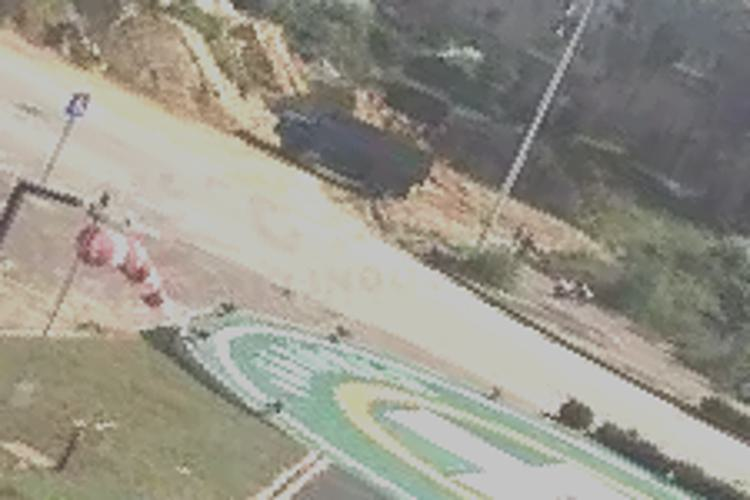Apron: (327, 370, 662, 500)
